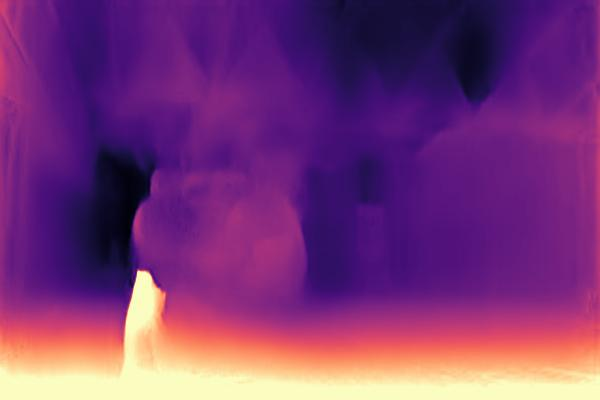Real_Tunnel: (127, 157, 314, 302)
